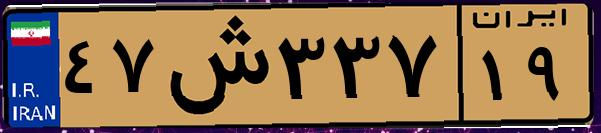1: (475, 38, 525, 113)
3: (270, 28, 330, 110), (330, 28, 385, 110)
4: (57, 26, 110, 100)
7: (385, 28, 445, 110), (110, 28, 158, 98)
9: (525, 38, 570, 115)
ش: (158, 12, 270, 120)
